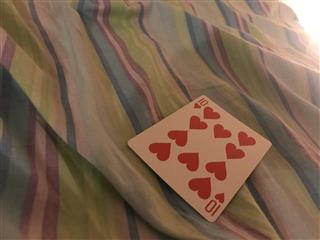TenOfHearts: (125, 93, 272, 222)
